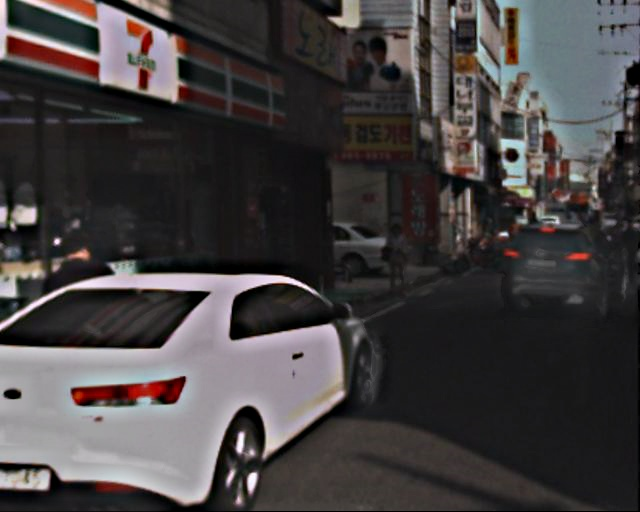person: (39, 226, 120, 385), (382, 222, 420, 299), (613, 217, 640, 287)
